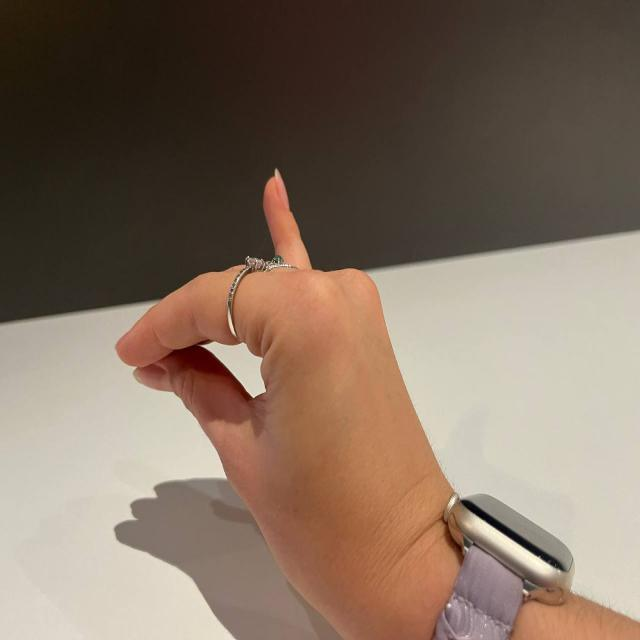iu: (117, 139, 455, 577)
